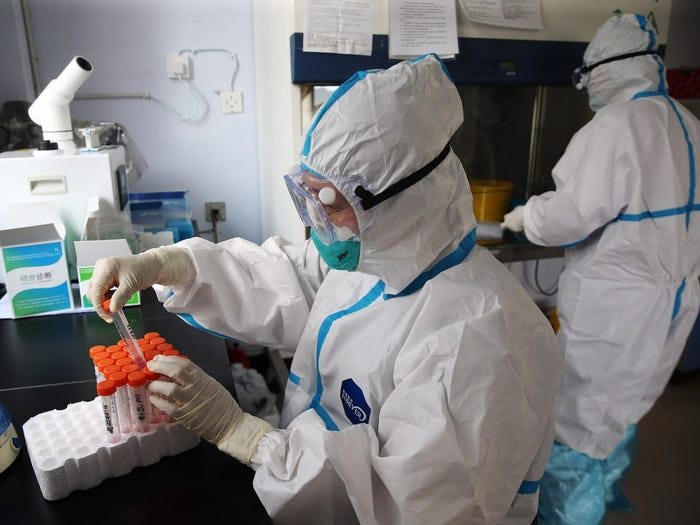Coverall: (256, 48, 567, 525), (507, 10, 700, 525)
Gloves: (141, 354, 280, 464), (84, 238, 198, 323), (498, 199, 534, 236)
Goggles: (274, 167, 377, 242)
with_mask: (303, 158, 366, 273)
